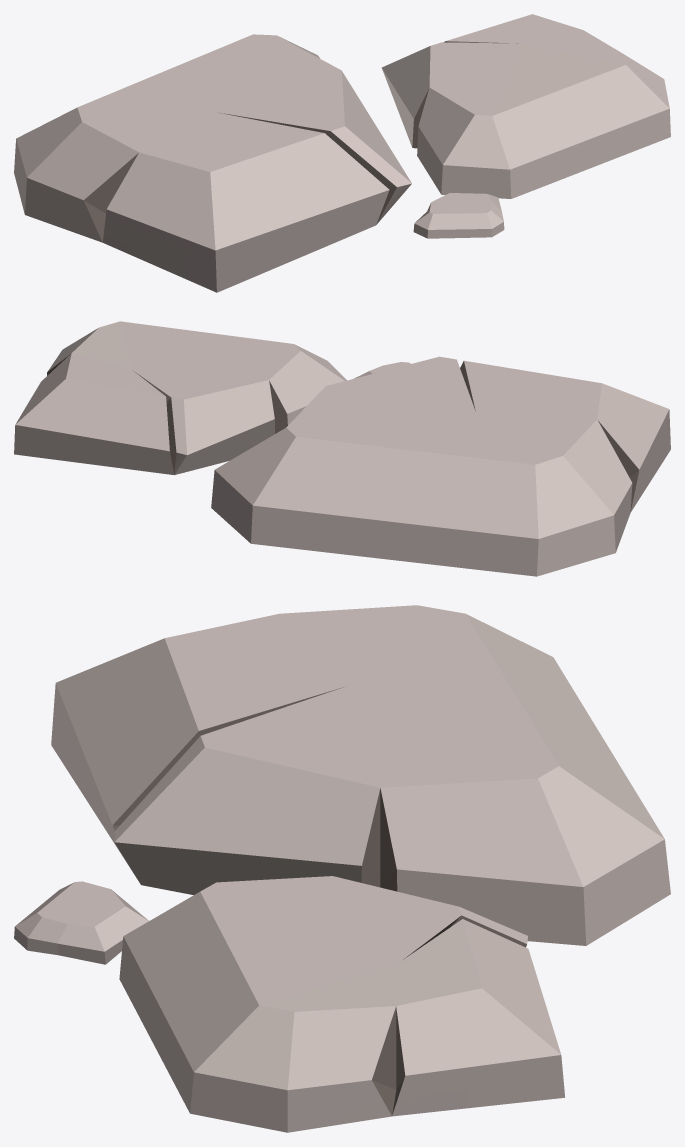
The model's file is rocks_2.fbx.
3 views of the same model, one above another, from view 1: azimuth 30°, elevation 25°; view 2: azimuth 150°, elevation 25°; view 3: azimuth 270°, elevation 25° (orthographic). The views are drawn at different scales.
Visible parts, largest first — view 1: 2; view 2: 2; view 3: 2.
Boxes of the visible parts, x1,y1,x2,y2 form: 2: [14, 14, 670, 292]; 2: [14, 321, 670, 576]; 2: [14, 605, 670, 1132].
Size of the model in its own units: 79.72 by 11.02 by 50.38.
Materials: 1 (1 with a texture image).
